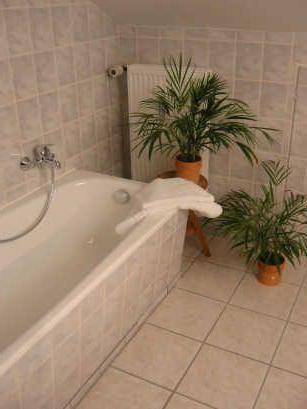Matera: (129, 51, 260, 179), (207, 158, 306, 291)
